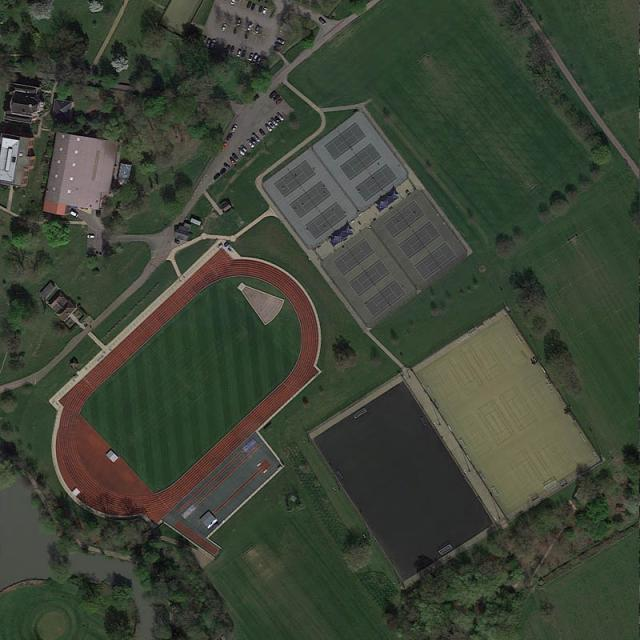vehicle: (275, 112, 285, 121), (246, 140, 255, 149), (229, 157, 237, 166), (268, 90, 277, 98), (318, 18, 326, 26), (232, 152, 239, 161), (226, 133, 233, 142), (70, 211, 79, 218), (221, 142, 227, 152), (214, 172, 221, 180), (238, 149, 246, 156), (231, 124, 238, 132), (275, 98, 283, 105), (244, 30, 250, 39), (219, 168, 226, 175), (240, 145, 247, 152), (247, 54, 254, 61), (224, 162, 230, 170), (266, 124, 272, 132), (246, 1, 252, 9), (237, 49, 242, 58), (222, 23, 227, 32), (276, 118, 282, 125), (268, 121, 274, 128), (260, 131, 266, 138), (254, 135, 260, 142), (278, 38, 285, 44), (247, 24, 254, 30), (236, 19, 242, 26), (211, 39, 216, 47), (272, 120, 278, 126), (226, 44, 230, 53), (206, 39, 211, 46), (253, 55, 258, 62), (258, 6, 263, 13), (250, 3, 255, 10), (230, 45, 234, 53), (233, 26, 237, 34), (255, 26, 259, 34), (262, 8, 267, 14), (87, 235, 95, 238), (257, 58, 261, 64)
